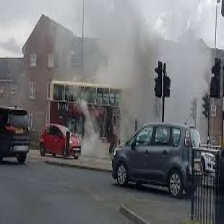smoke: (95, 9, 169, 87), (173, 9, 204, 125), (82, 101, 102, 155)
